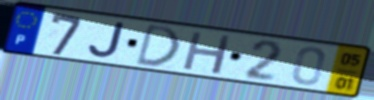0: (290, 45, 328, 87)
2: (244, 39, 284, 84)
7: (51, 10, 84, 57)
D: (133, 22, 183, 68)
H: (180, 29, 235, 76)
J: (86, 21, 127, 60)
